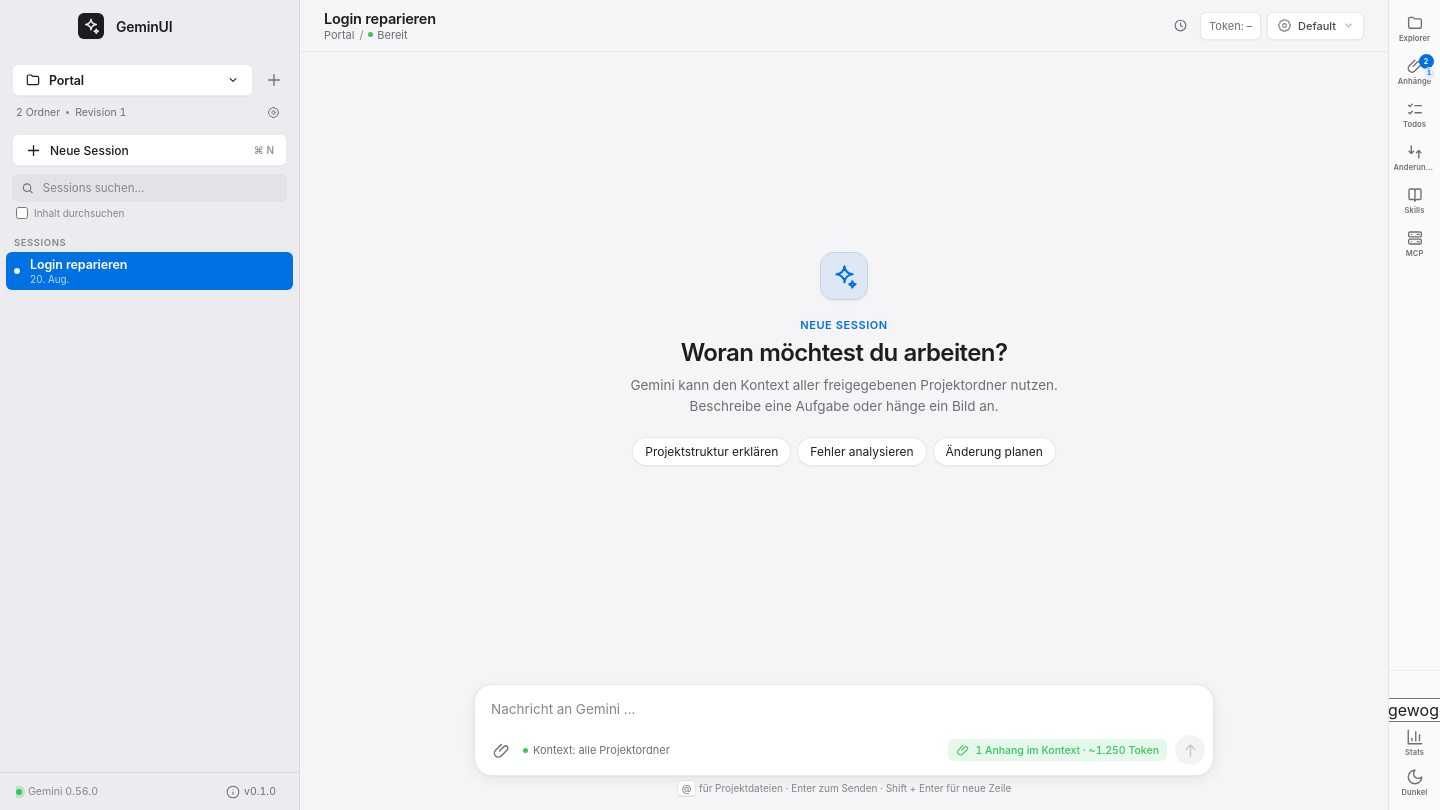
Test: Renderer UI › rendert Markdown-Dateien wie plan.md formatiert und bietet einen Toggle für Raw Markdown
The width and height of the screenshot is (1440, 810).
Expected: the heading "Login reparieren" is shown, [324, 10, 436, 26]
// Open context attachments panel
Step 1. Click the button with aria-label "Anhänge öffnen" → (1414, 71), box [1392, 51, 1436, 91]
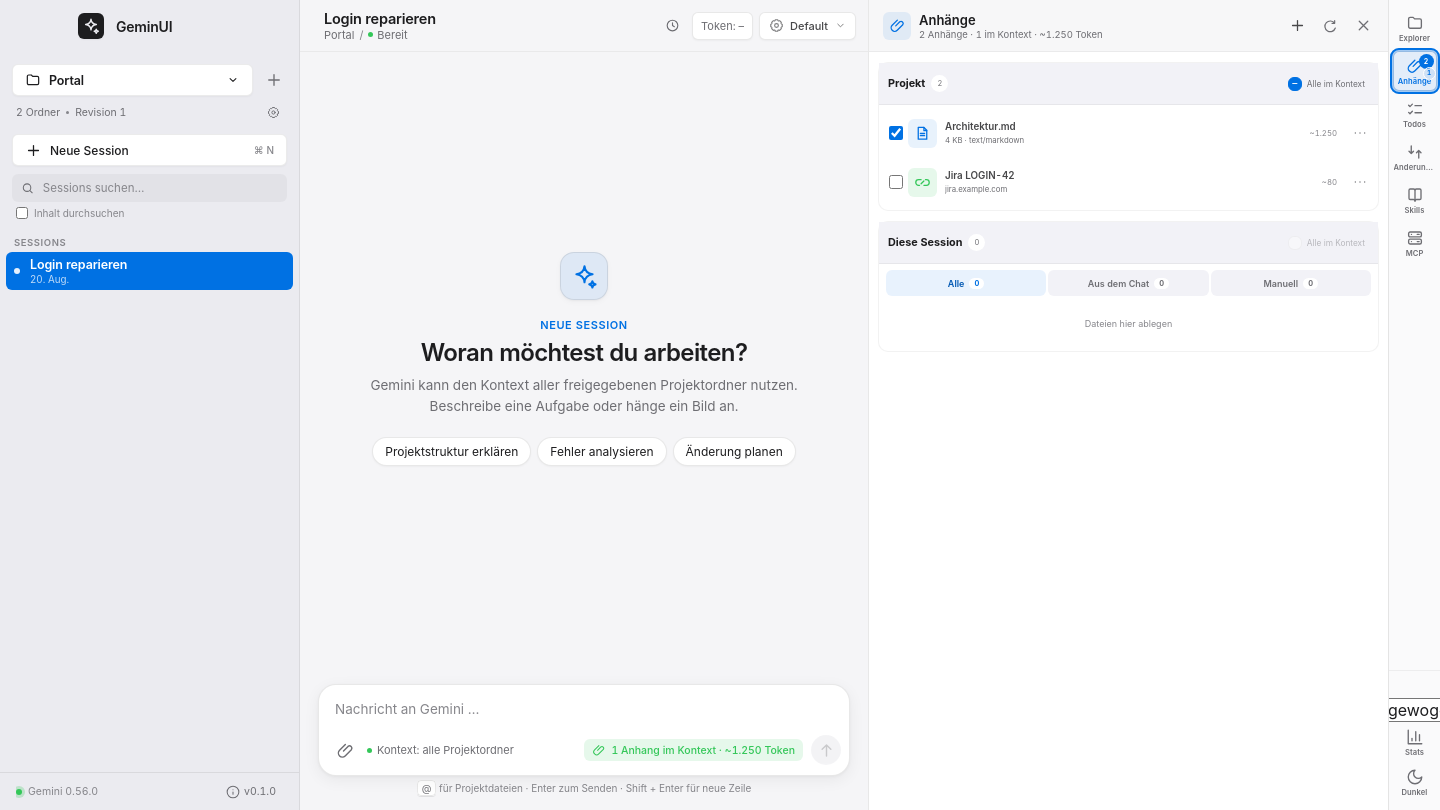
Now the text "Architektur.md" is shown
// Click on Architektur.md to open AttachmentDetail
Step 2. Click the text "Architektur.md" → (980, 126), box [945, 121, 1016, 132]
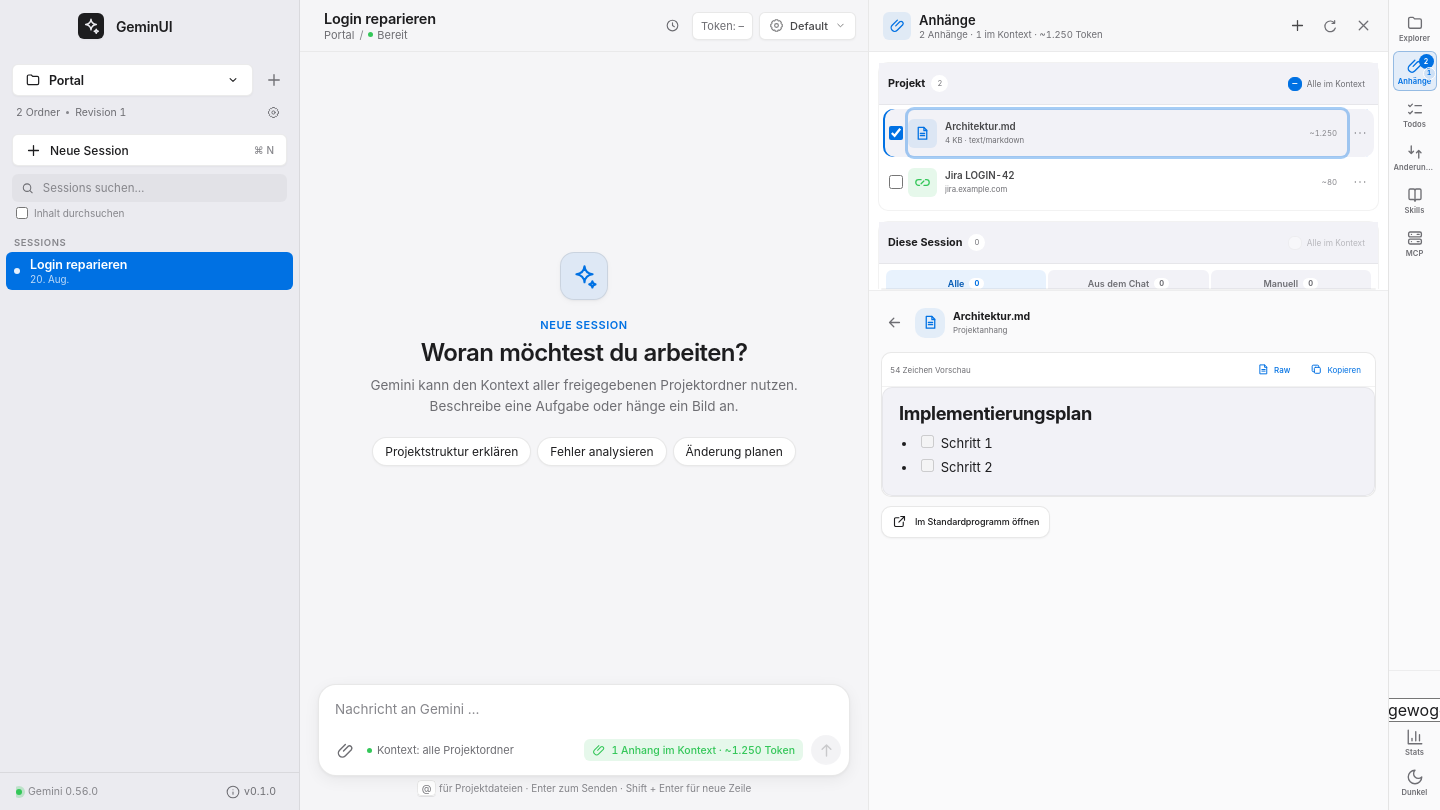
Now the heading "Implementierungsplan" is shown, box [899, 402, 1092, 424]
Now the button titled "Raw Markdown anzeigen" is shown
Step 3. Click the button titled "Raw Markdown anzeigen" → (1274, 370), box [1251, 358, 1296, 382]
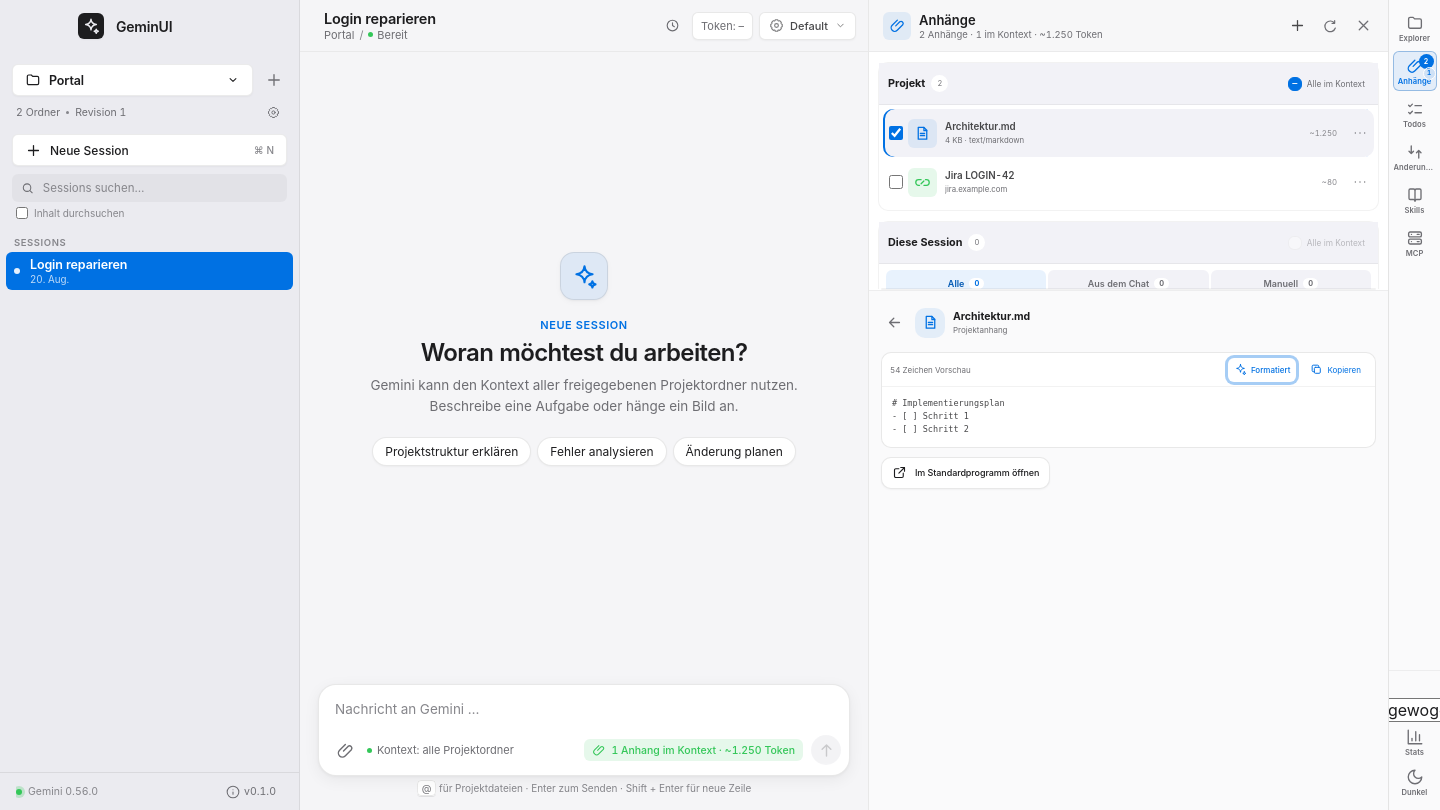
Now the text "# Implementierungsplan - [ ] Schritt 1 - [ ] Schritt 2" is shown, box [892, 398, 1005, 434]
